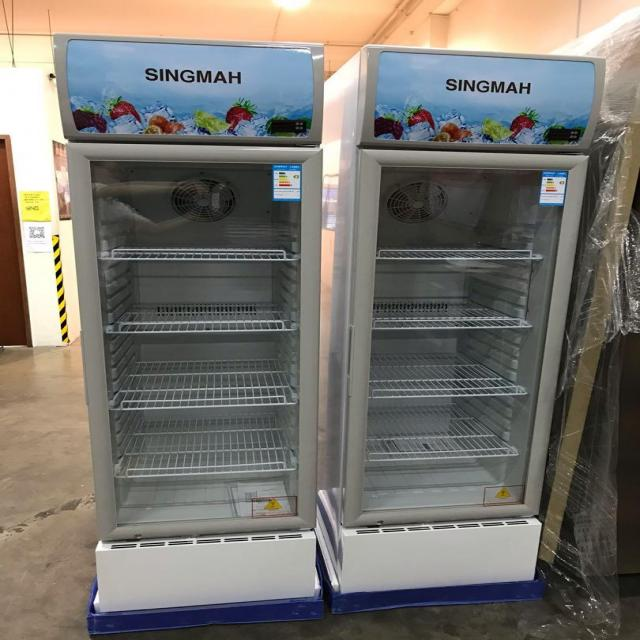refrigerator: (53, 32, 324, 595), (339, 44, 608, 588)
